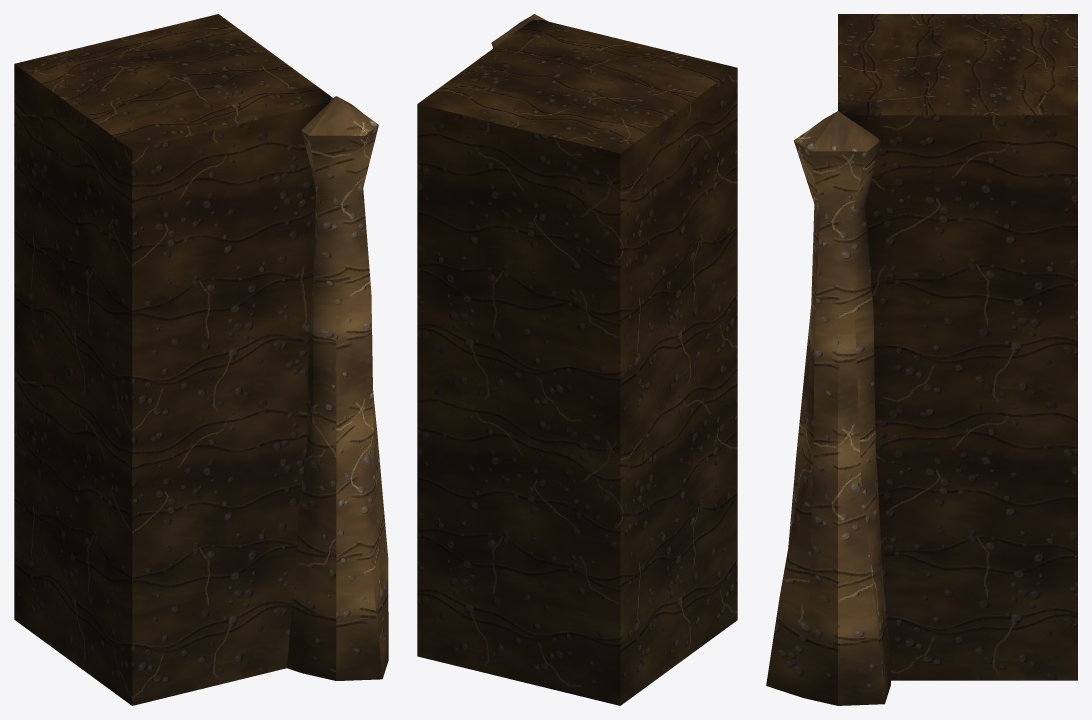
The model's file is cave_wall_mud_inner.glb.
The picture shows the model from 3 angles, left to right: view 1: azimuth 30°, elevation 25°; view 2: azimuth 150°, elevation 25°; view 3: azimuth 270°, elevation 25°; orthographic projection. The views are drawn at different scales.
Parts seen in each view (by area): view 1: cave_wall_mud_inner; view 2: cave_wall_mud_inner; view 3: cave_wall_mud_inner.
Part boxes in pixels (box(x1,y1,x2,y2)): cave_wall_mud_inner: box(14, 14, 388, 705); cave_wall_mud_inner: box(417, 14, 737, 705); cave_wall_mud_inner: box(766, 14, 1077, 705).
Size of the model in its own units: 1.25 by 2.66 by 1.3.
1 material, 1 textured.
